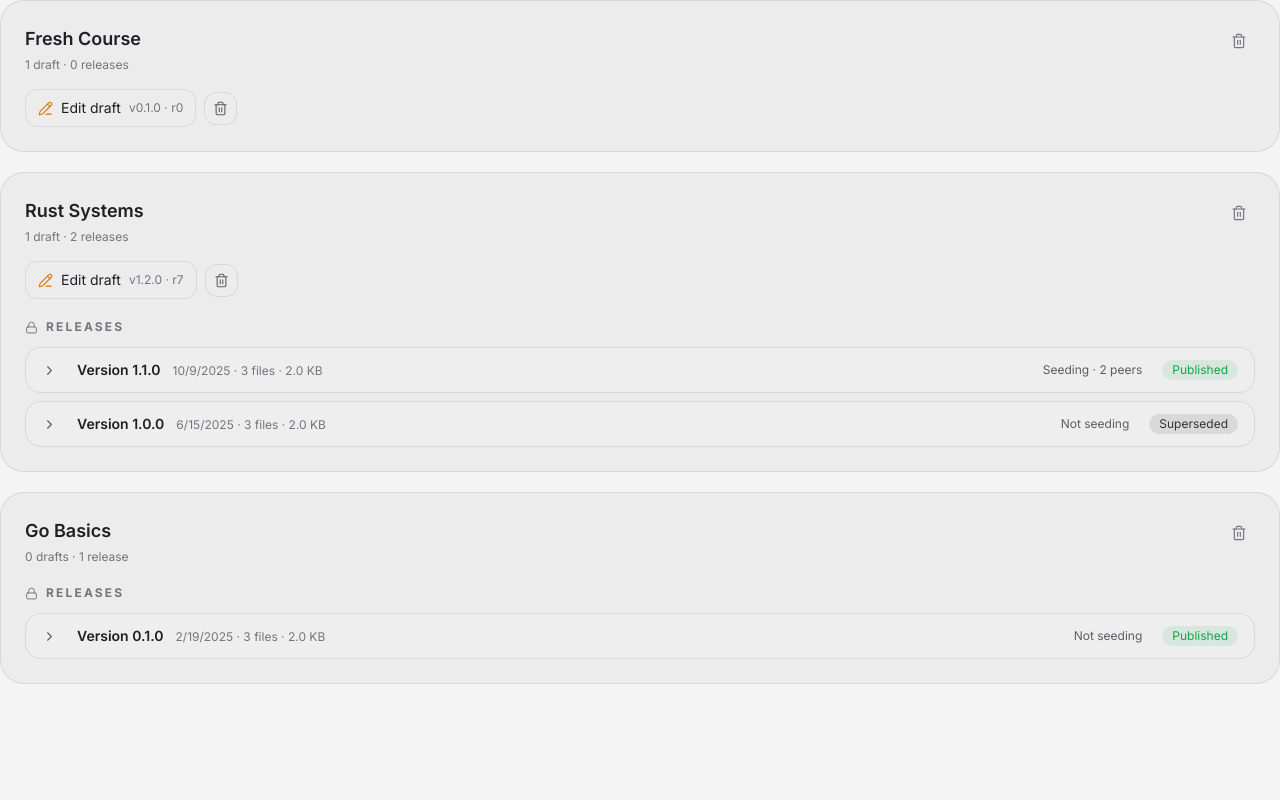
course management › reveals the full magnet, info hash, and declared files of a release
Step 1. Click the button "Version 1.1.0" → coordinates (105, 370), box [26,348,1254,392]
(page scrolled)
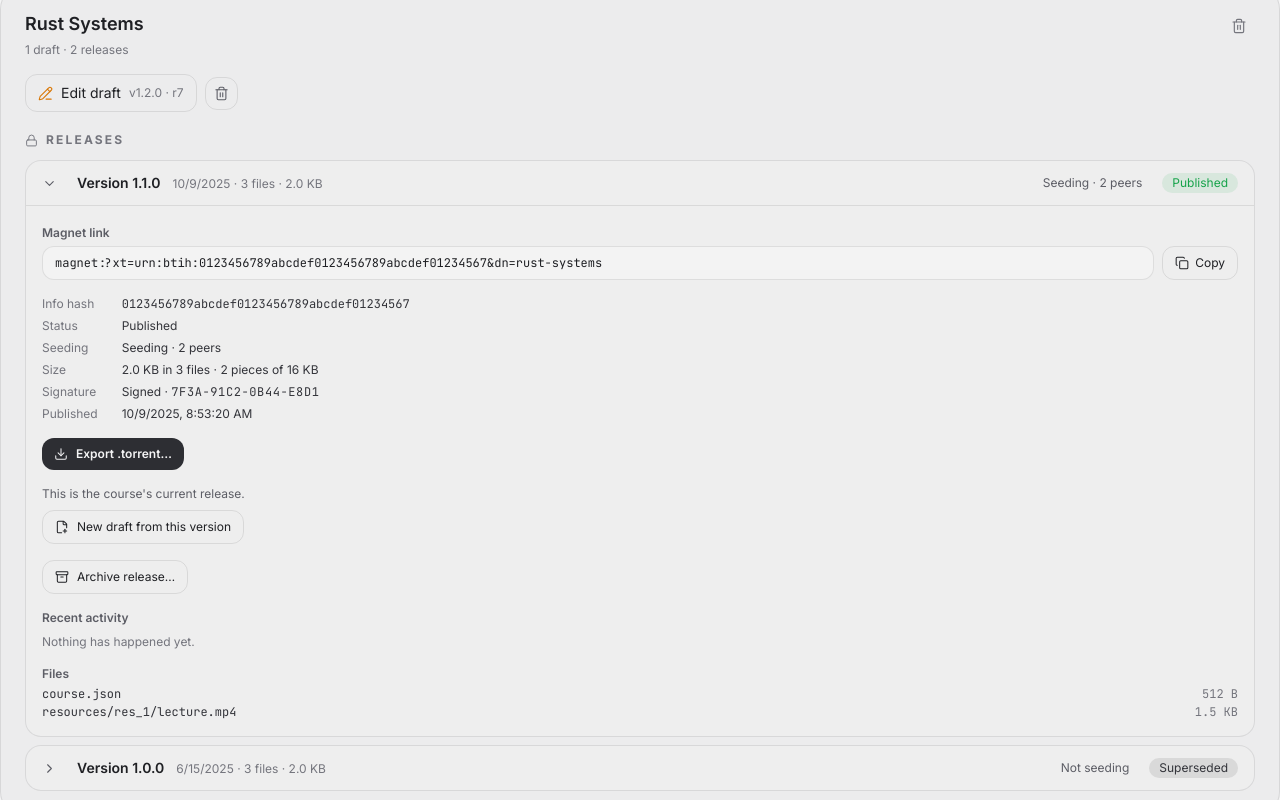
Expected: the button "Version 1.1.0" is expanded, [26,161,1254,205]
Expected: the field labelled "Magnet link" holds "magnet:?xt=urn:btih:0123456789abcdef0123456789abcdef01234567&dn=rust-systems", [42,246,1154,280]
Expected: the list item "Rust Systems" shows "0123456789abcdef0123456789abcdef01234567", [122,296,410,312]
